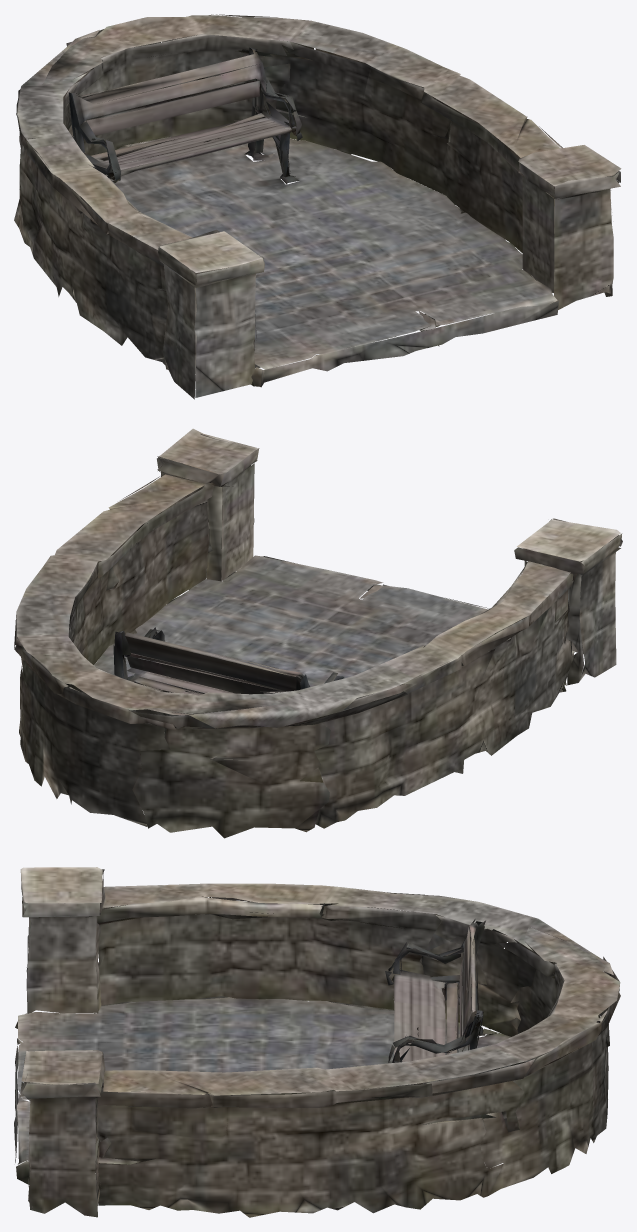
The model's file is serra_aussicht.glb.
3 renders of one model, top to bottom at view 1: azimuth 30°, elevation 25°; view 2: azimuth 150°, elevation 25°; view 3: azimuth 270°, elevation 25°, orthographic. The views are drawn at different scales.
Visible parts, largest first — view 1: Prop; view 2: Prop; view 3: Prop.
Boxes of the visible parts, box(x1,y1,x2,y2) form: Prop: box(14, 14, 621, 399); Prop: box(14, 428, 622, 838); Prop: box(14, 867, 620, 1217).
Bounding box in the file's own units: 3.26 × 1.01 × 3.86.
1 material, 1 textured.
